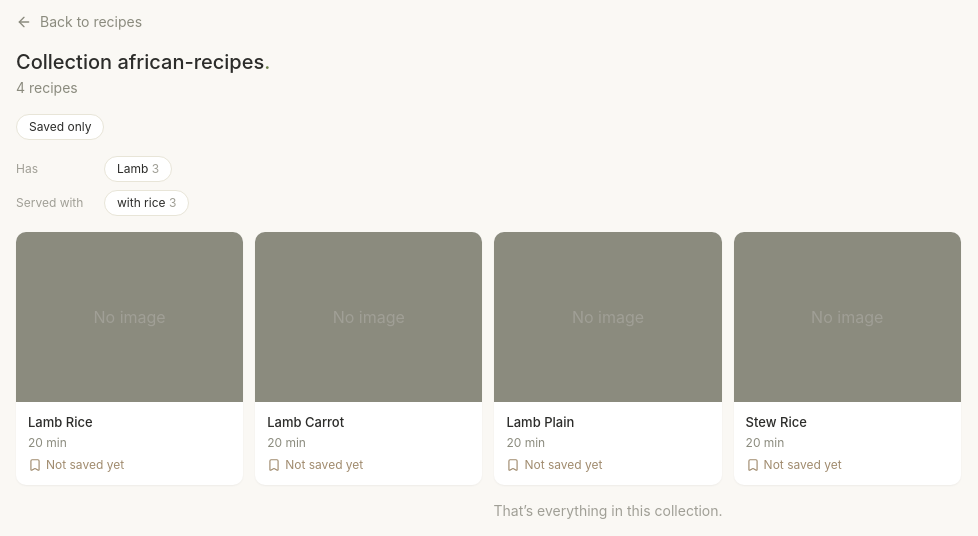
Test: In-list tag chips › selecting a tag keeps only cards carrying it; a second tag narrows further
The image size is (978, 536).
Expected: the heading "Lamb Rice" is shown, 28,414 -> 93,430
Click the button "Lamb 3" at {"x": 138, "y": 169}, box 104,156 -> 172,182
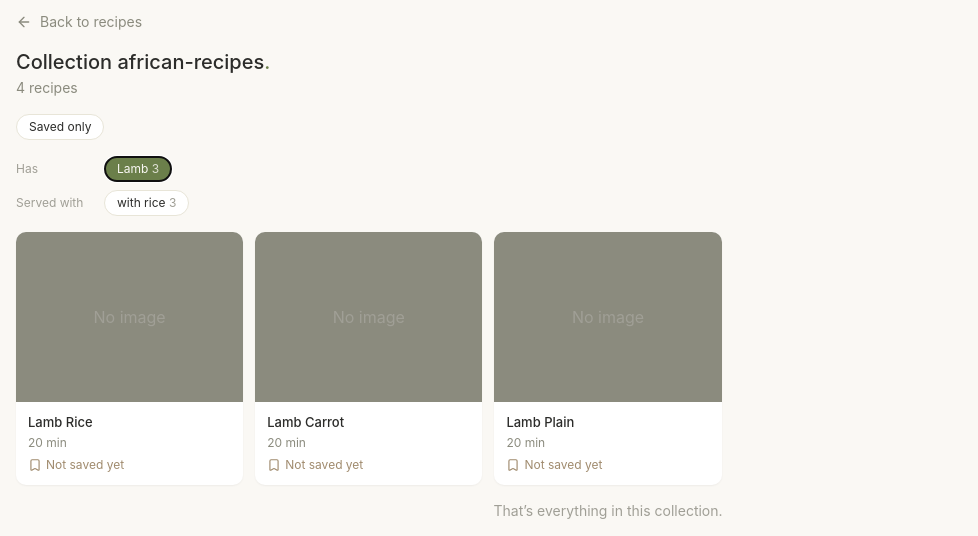
Expected: the heading "Lamb Plain" is shown, 506,414 -> 574,430
Expected: the button "Stew Rice" is gone
Click the button "with rice 3" at {"x": 147, "y": 203}, box 104,190 -> 189,216
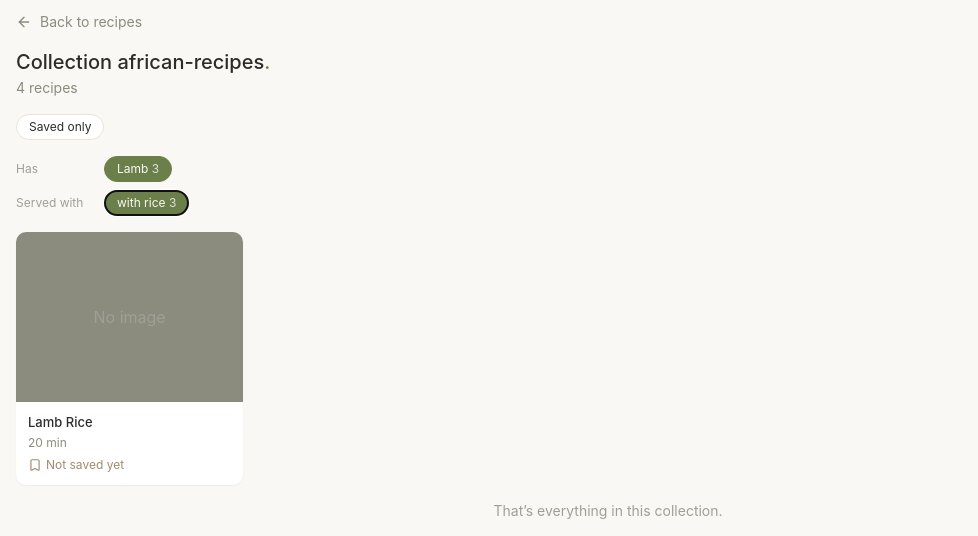
Expected: the heading "Lamb Rice" is shown, 28,414 -> 93,430
Expected: the button "Lamb Plain" is gone
Expected: the button "Lamb Carrot" is gone
